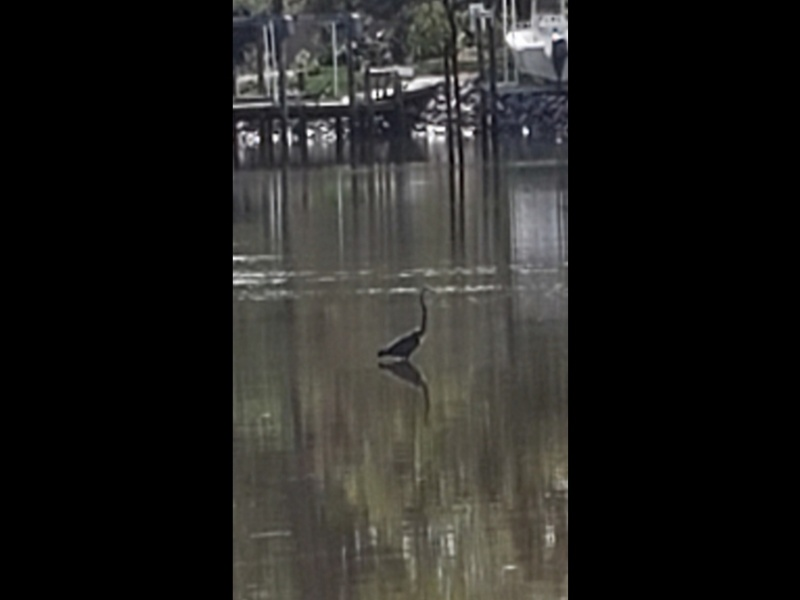heron: (373, 284, 437, 359)
